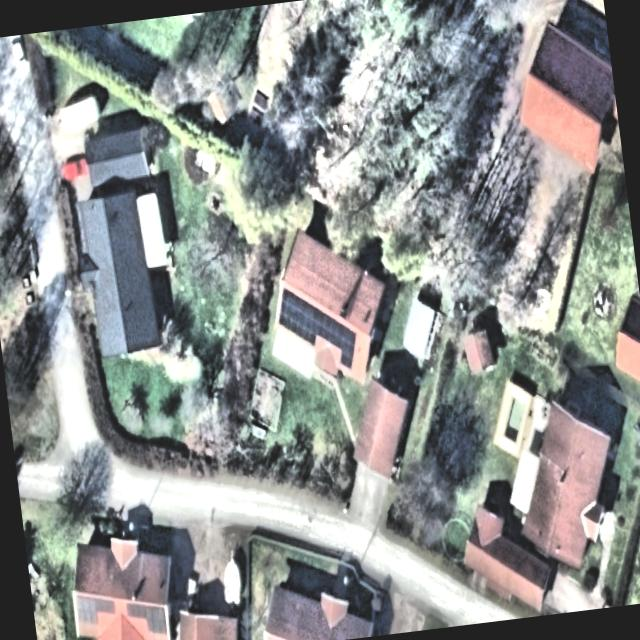roof_pv: (270, 277, 365, 373), (71, 582, 120, 635), (119, 591, 172, 640)
